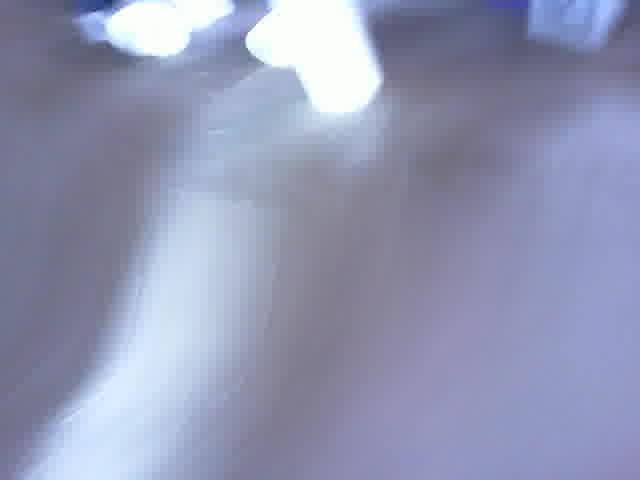coral: (269, 0, 387, 117), (106, 0, 243, 55)
